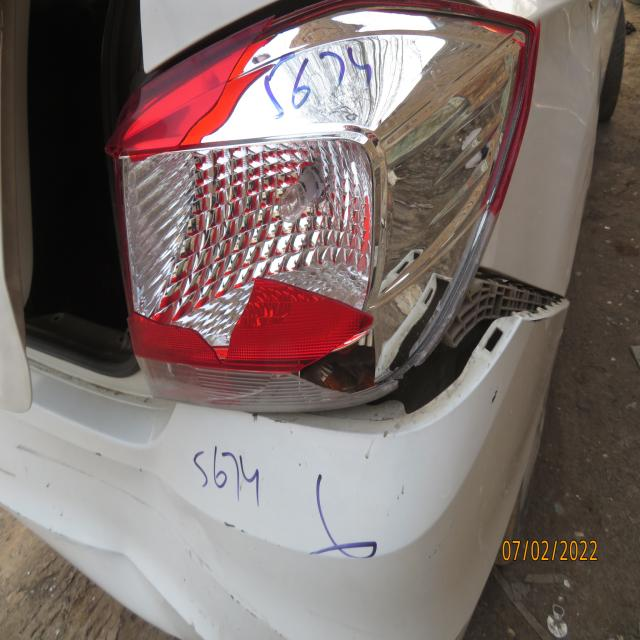damage: (162, 17, 524, 295), (0, 426, 307, 640), (270, 285, 577, 487)
